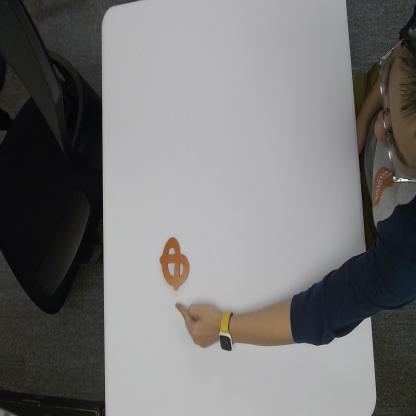Arm: (242, 238, 374, 355)
Hand: (172, 293, 218, 350)
Pretzel: (159, 237, 192, 293)
